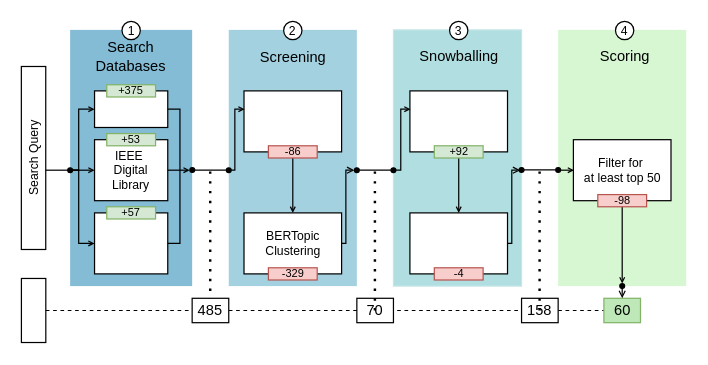
This 708x365 diagram has some shape labels left out. Each missing label, with the box of its shape:
ACM Digital Library: (93, 212, 168, 274)
Find new Studies: (409, 90, 508, 152)
Merge Duplicates: (243, 90, 342, 152)
Remove Prequels: (409, 212, 508, 274)
Scopus: (93, 90, 168, 127)
Studies: (20, 277, 46, 343)
